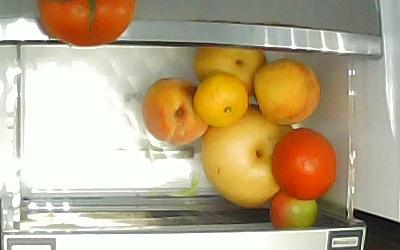peach: (251, 57, 321, 124), (141, 76, 209, 144)
pear: (198, 103, 294, 207), (192, 46, 267, 98)
tangerine: (192, 71, 248, 126)
tomato: (270, 126, 337, 200), (268, 188, 318, 230)
